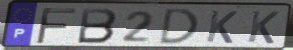2: (121, 10, 157, 44)
B: (75, 7, 119, 45)
D: (157, 8, 202, 46)
F: (33, 7, 78, 46)
K: (245, 10, 281, 45), (204, 9, 239, 45)
